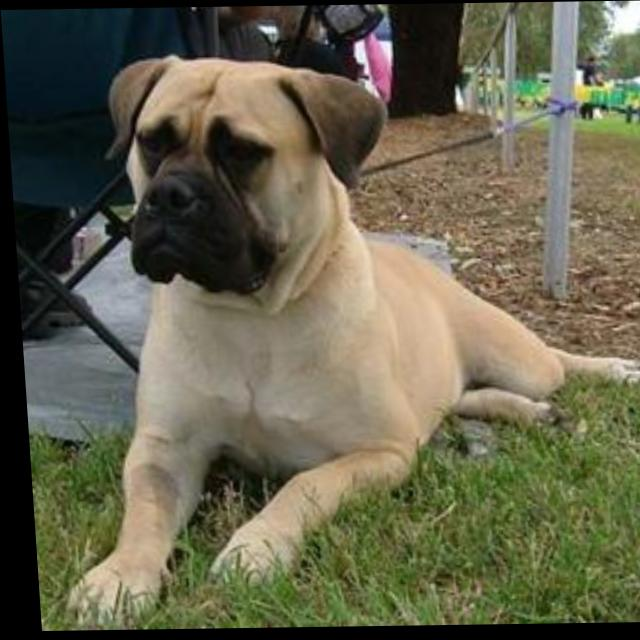bullmastiff: (27, 47, 640, 631)
